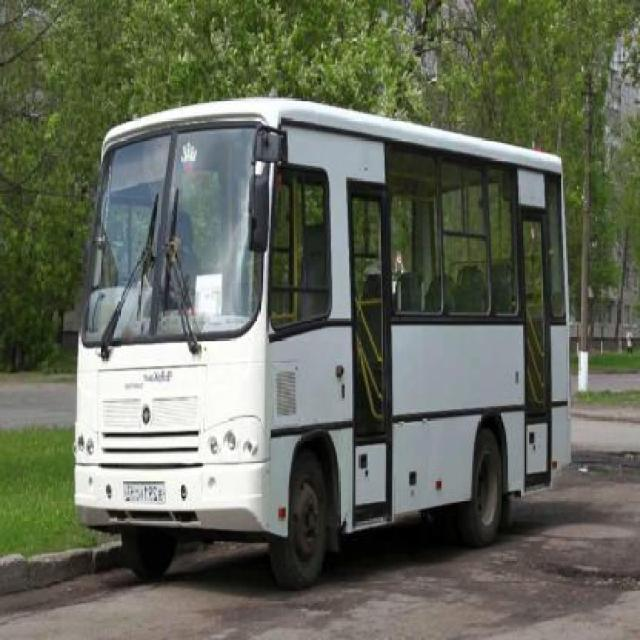bus: (78, 98, 570, 579)
